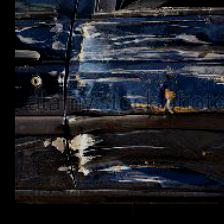door_dent: (4, 14, 221, 193)
